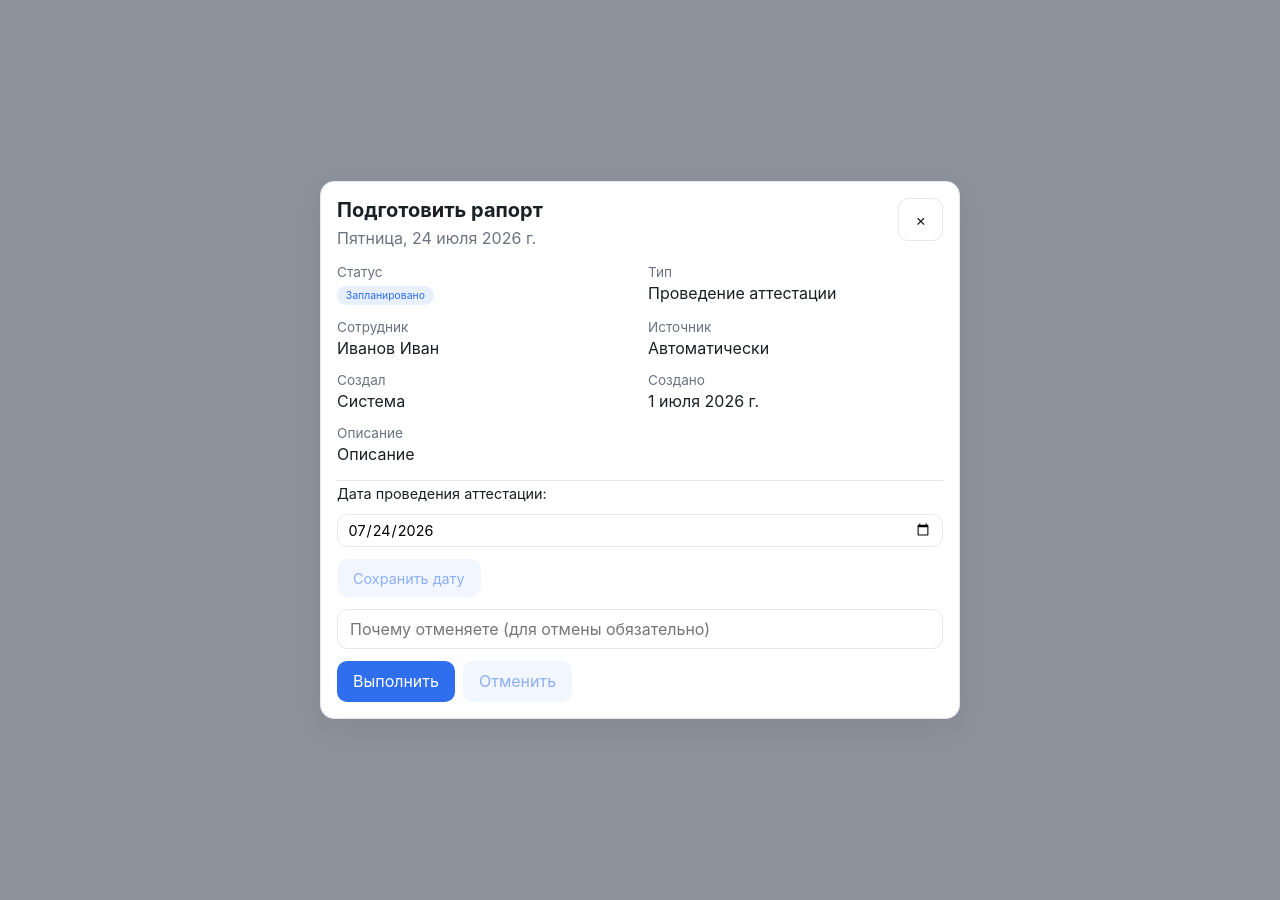
Test case: EventDetailModal › requires saving a date draft before changing the attestation status
The width and height of the screenshot is (1280, 900).
Step 1. Type "2026-11-06" into the date field with id "attestation-date-input" → (640, 531), box left=337, top=514, right=943, bottom=548
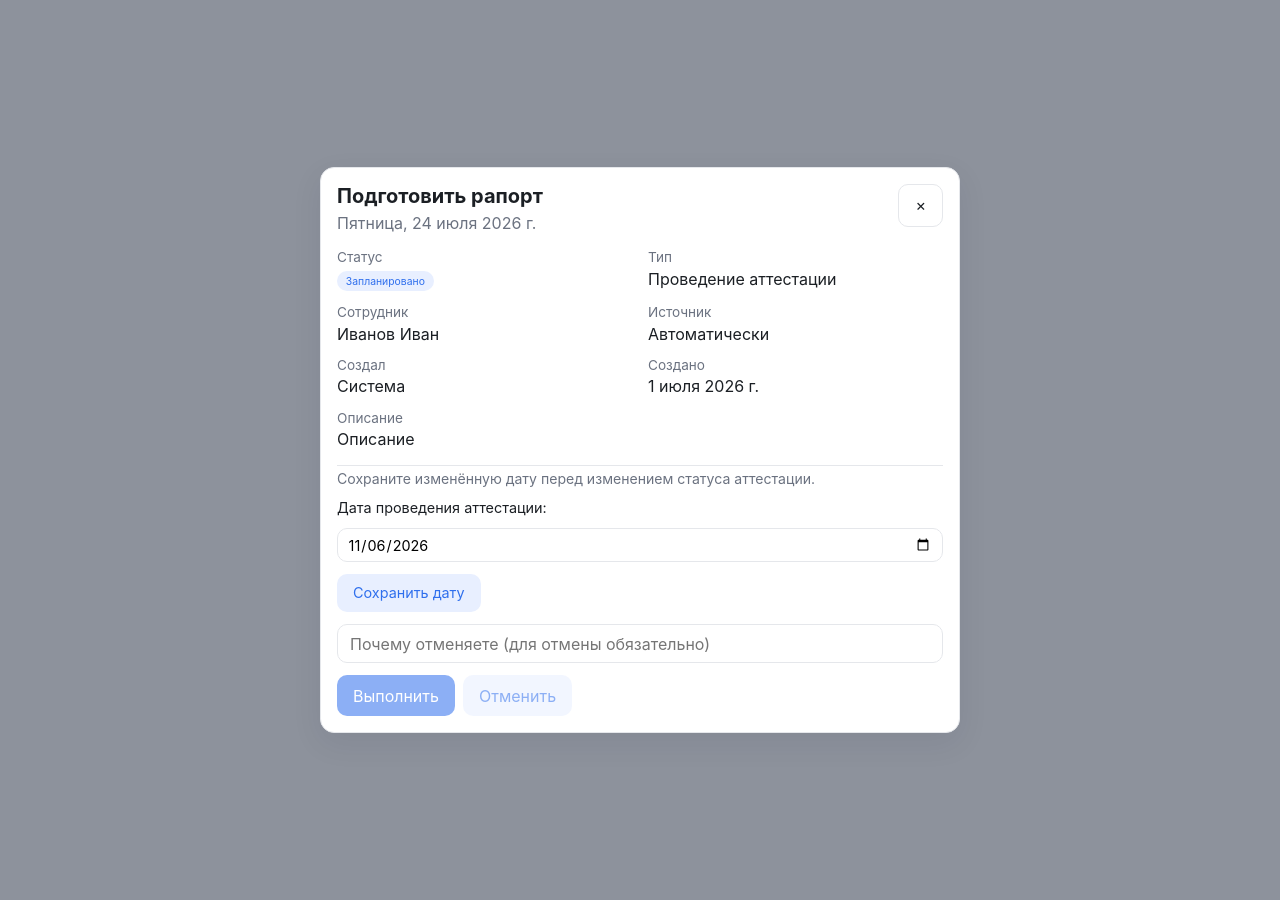
Expected: the button "Выполнить" is disabled, left=337, top=675, right=455, bottom=716
Expected: the text "Сохраните изменённую дату" is shown, left=337, top=470, right=815, bottom=487
